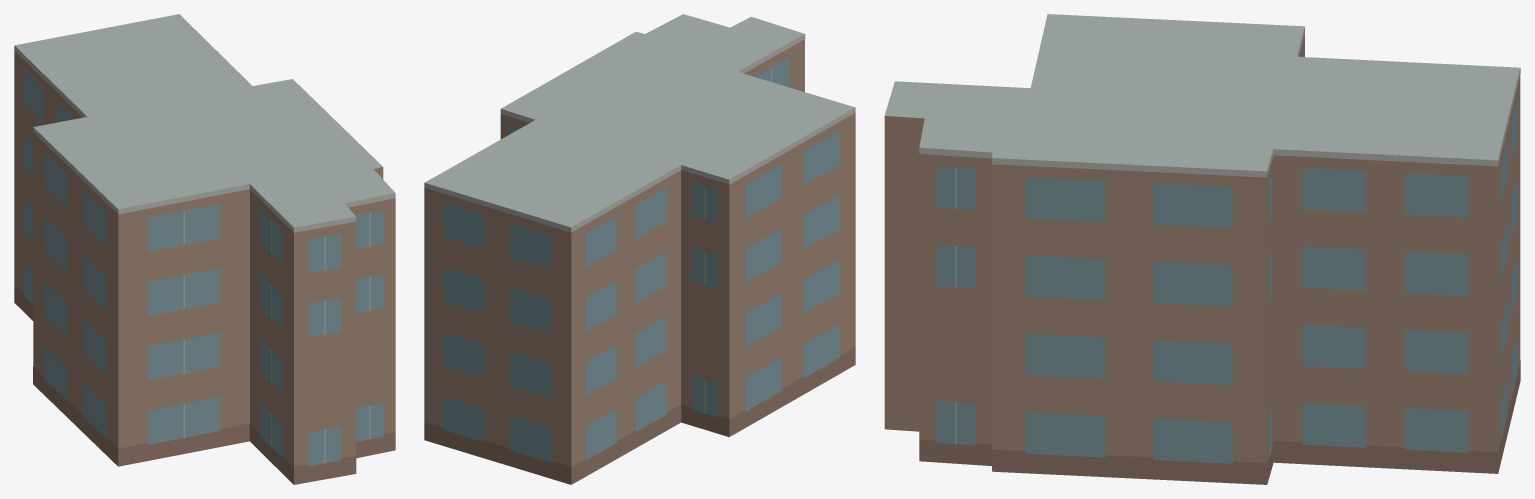
The model's file is survey-upis-32470934.glb.
The picture shows the model from 3 angles, left to right: view 1: azimuth 30°, elevation 25°; view 2: azimuth 150°, elevation 25°; view 3: azimuth 270°, elevation 25°; orthographic projection. The views are drawn at different scales.
Parts seen in each view (by area): view 1: survey-upis-32470934.tmp; view 2: survey-upis-32470934.tmp; view 3: survey-upis-32470934.tmp.
Part boxes in pixels (<box>): survey-upis-32470934.tmp: <box>14,14,395,484</box>; survey-upis-32470934.tmp: <box>424,14,855,484</box>; survey-upis-32470934.tmp: <box>884,14,1520,484</box>.
Bounding box in the file's own units: 13.25 × 12.3 × 22.62.
